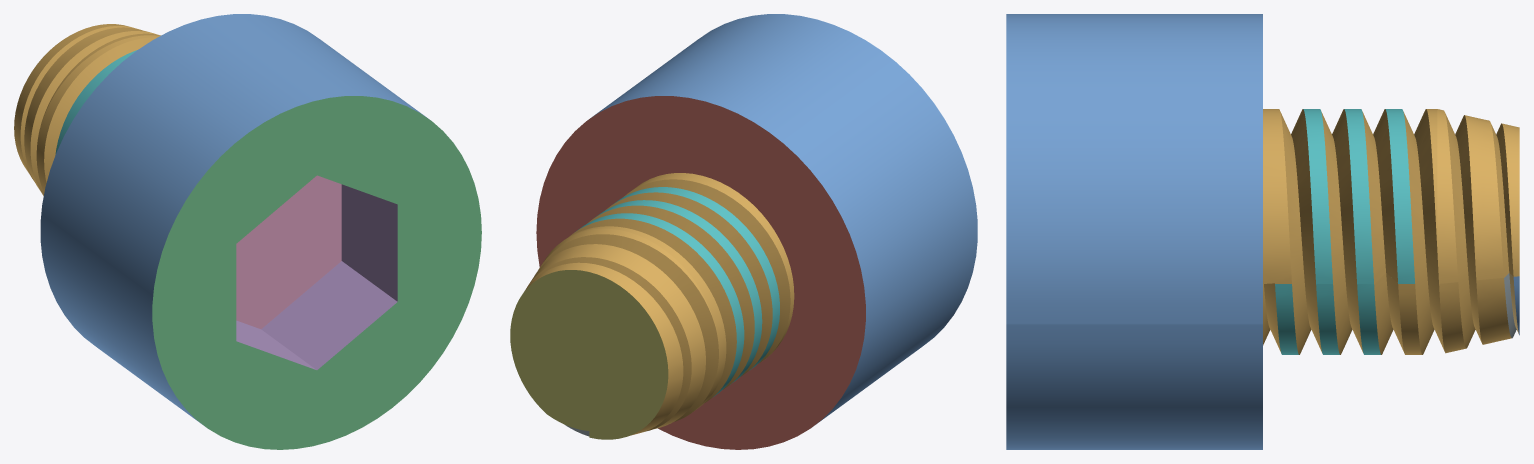
3 renders of one model, left to right at view 1: azimuth 30°, elevation 25°; view 2: azimuth 150°, elevation 25°; view 3: azimuth 270°, elevation 25°, orthographic. The views are drawn at different scales.
Parts seen in each view (by area): view 1: Socket head cap screw - meta-matic-generator 1.1 [23b2d10605; view 2: Socket head cap screw - meta-matic-generator 1.1 [23b2d10605; view 3: Socket head cap screw - meta-matic-generator 1.1 [23b2d10605.
Boxes of the visible parts, x1,y1,x2,y2 form: Socket head cap screw - meta-matic-generator 1.1 [23b2d10605: (14, 14, 481, 449); Socket head cap screw - meta-matic-generator 1.1 [23b2d10605: (510, 14, 977, 449); Socket head cap screw - meta-matic-generator 1.1 [23b2d10605: (1006, 14, 1519, 449).
Size of the model in its own units: 0.00849 by 0.0085 by 0.01.
